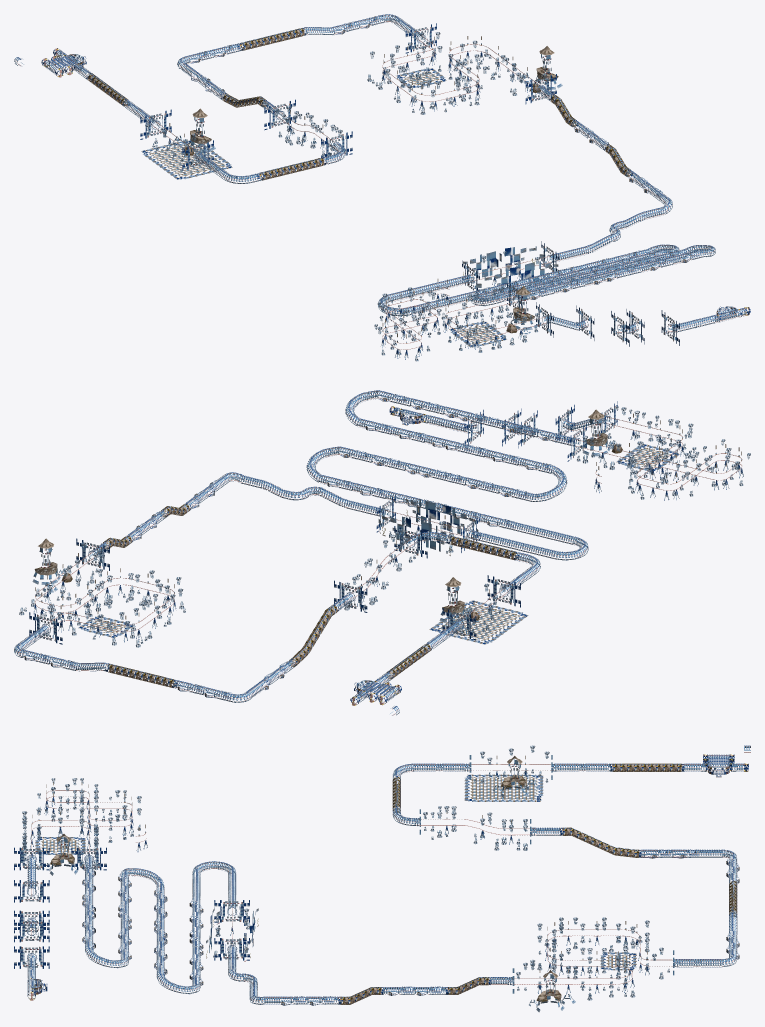
3 renders of one model, top to bottom at view 1: azimuth 30°, elevation 25°; view 2: azimuth 150°, elevation 25°; view 3: azimuth 270°, elevation 25°, orthographic. The views are drawn at different scales.
Bounding box in the file's own units: 281 × 66.06 × 412.
